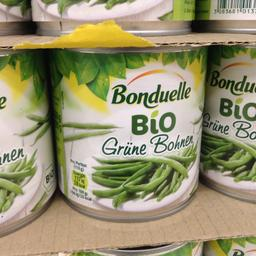beans: (50, 47, 204, 224), (0, 49, 43, 233), (207, 42, 255, 204)
